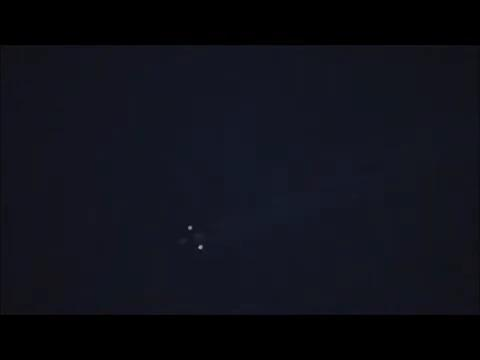Plane: (157, 213, 232, 261)
